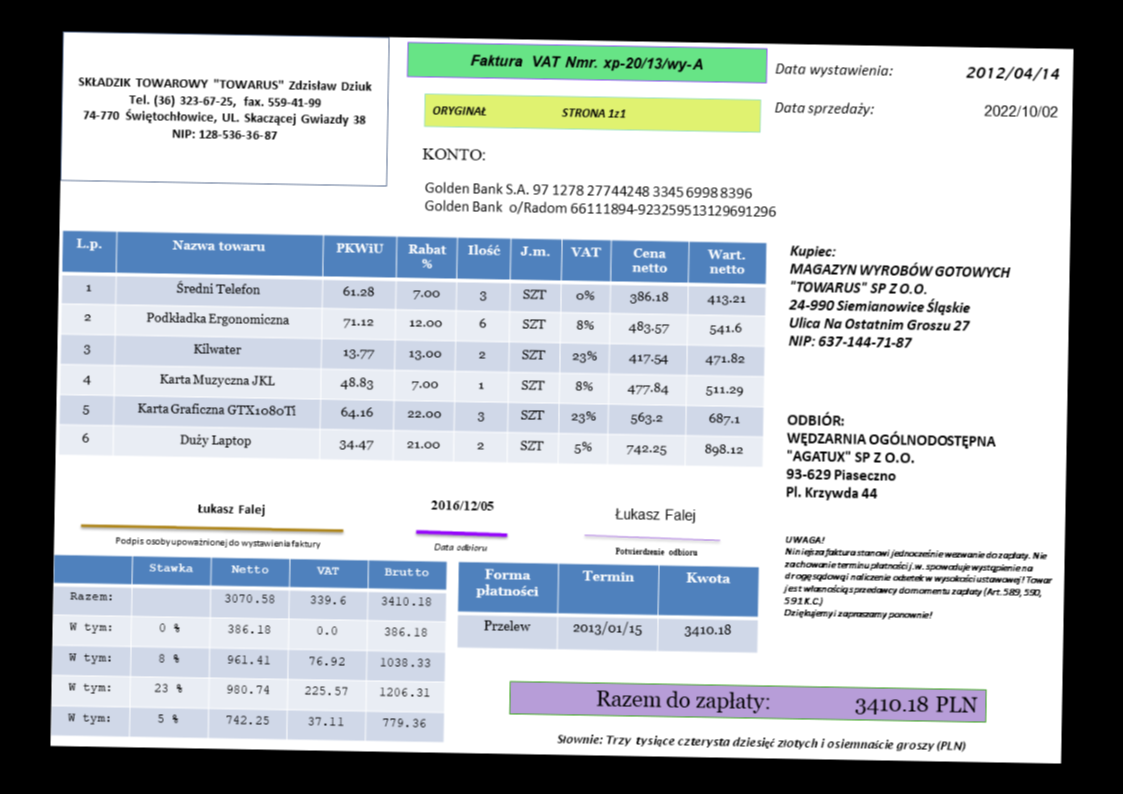Table: (57, 229, 767, 468), (51, 555, 447, 741), (455, 559, 761, 653)
TextBox: (786, 242, 1013, 351), (781, 533, 1055, 623), (75, 73, 375, 144), (784, 409, 996, 504), (422, 179, 780, 219), (594, 687, 979, 717), (555, 731, 969, 752), (466, 50, 705, 75), (112, 533, 322, 551), (429, 102, 627, 120), (774, 59, 895, 79), (773, 98, 877, 118), (963, 62, 1061, 81), (612, 505, 696, 525), (428, 495, 495, 515), (982, 102, 1060, 119), (194, 500, 267, 518), (421, 144, 486, 162), (613, 545, 698, 557), (431, 540, 488, 554)
